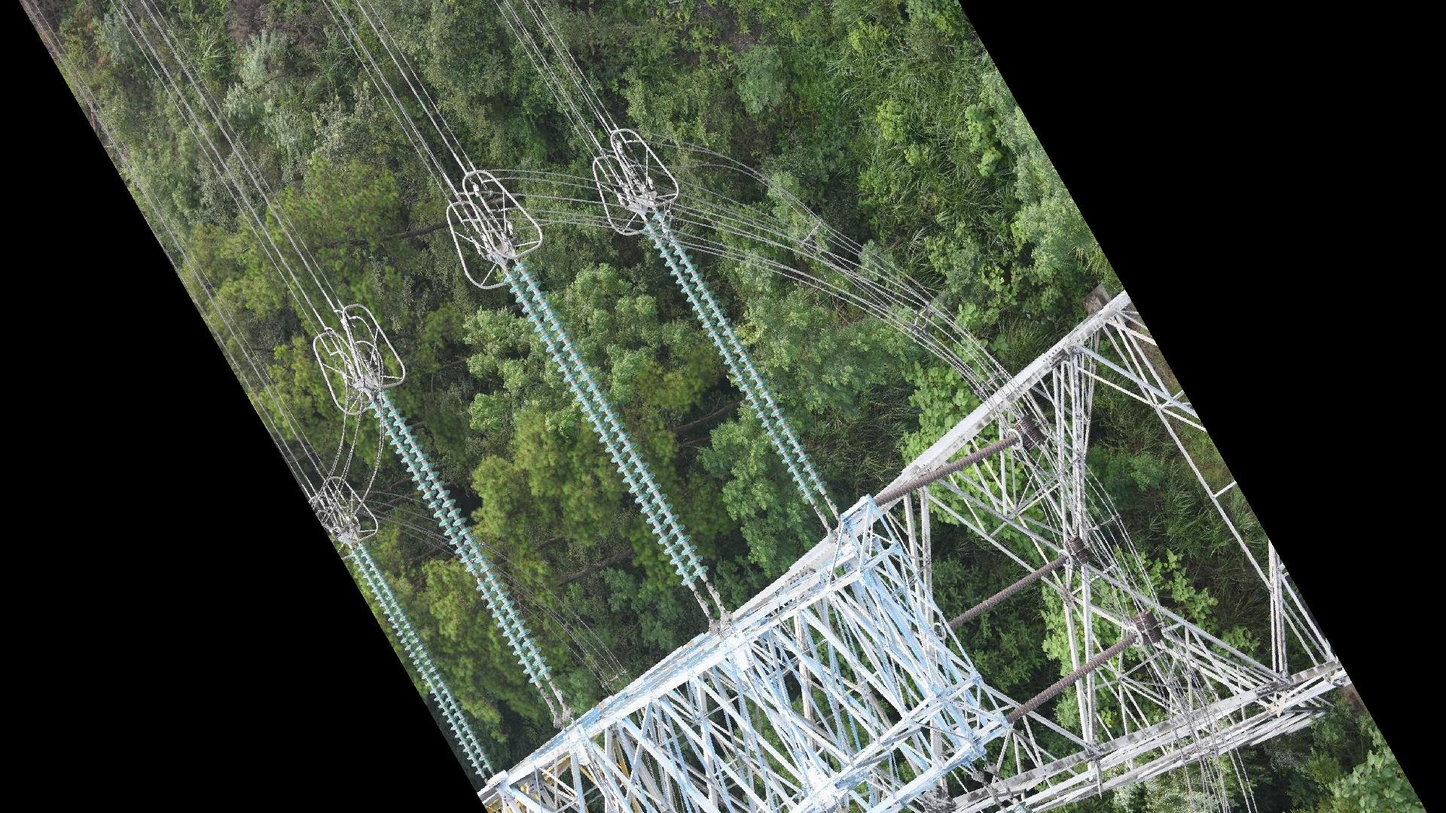insulator: (500, 257, 711, 590), (639, 211, 830, 502), (369, 394, 556, 687), (349, 543, 496, 779), (1005, 632, 1136, 727), (874, 432, 1020, 507), (946, 550, 1071, 633)
insulator_stringdrop: (464, 561, 491, 594)
